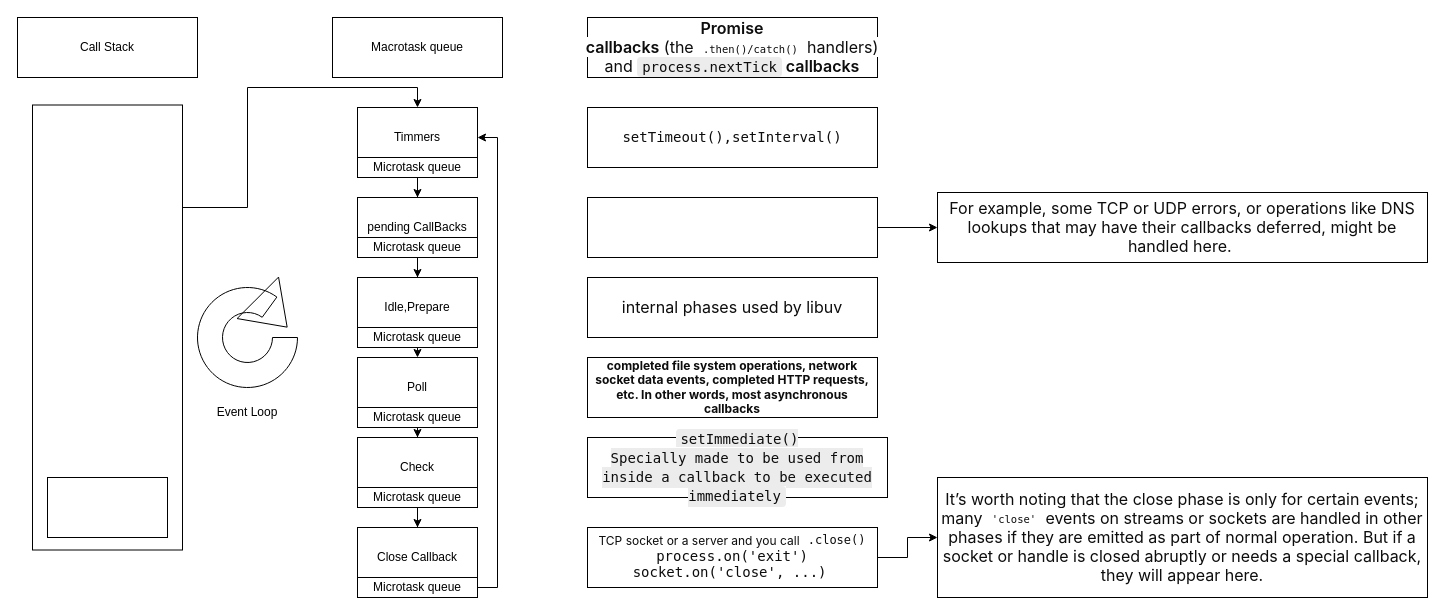
Some shapes in this 1445 by 615 pixel diagram are drawn without their labels. Here are the shapes that lost their labels. From the top down, the centre of each, then its label:
At (x=732, y=227): "Used for deffered System operations".
At (x=107, y=507): "main()".
